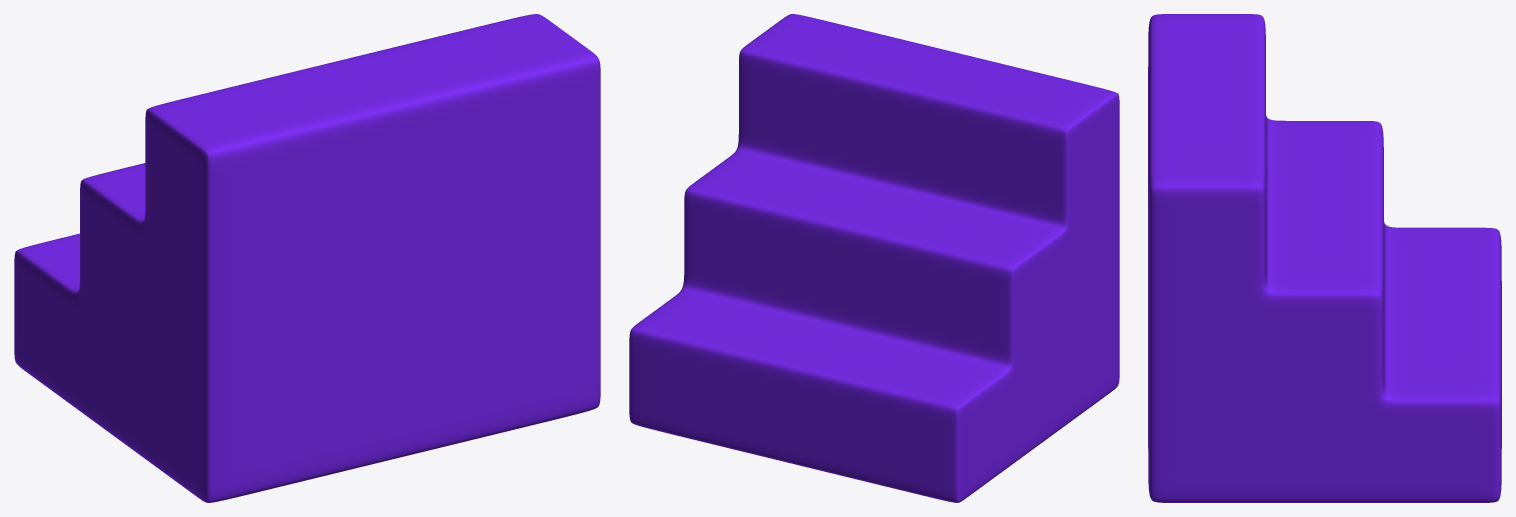
File: stairs.glb
3 views of the same model, side by side, from view 1: azimuth 30°, elevation 25°; view 2: azimuth 150°, elevation 25°; view 3: azimuth 270°, elevation 25° (orthographic). The views are drawn at different scales.
Parts seen in each view (by area): view 1: Cube; view 2: Cube; view 3: Cube.
Boxes of the visible parts, x1,y1,x2,y2 form: Cube: [14, 14, 600, 502]; Cube: [629, 14, 1119, 502]; Cube: [1148, 14, 1501, 502].
Size of the model in its own units: 3.5 by 3 by 3.
